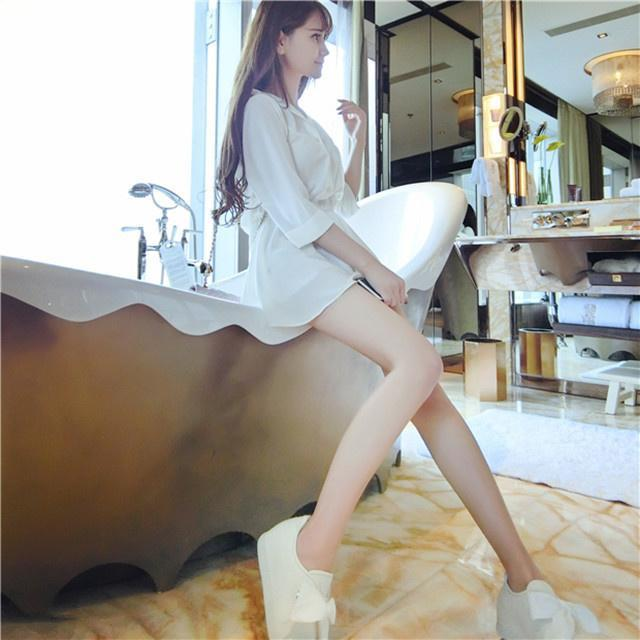long-sleeve-outwear: (218, 80, 406, 356)
